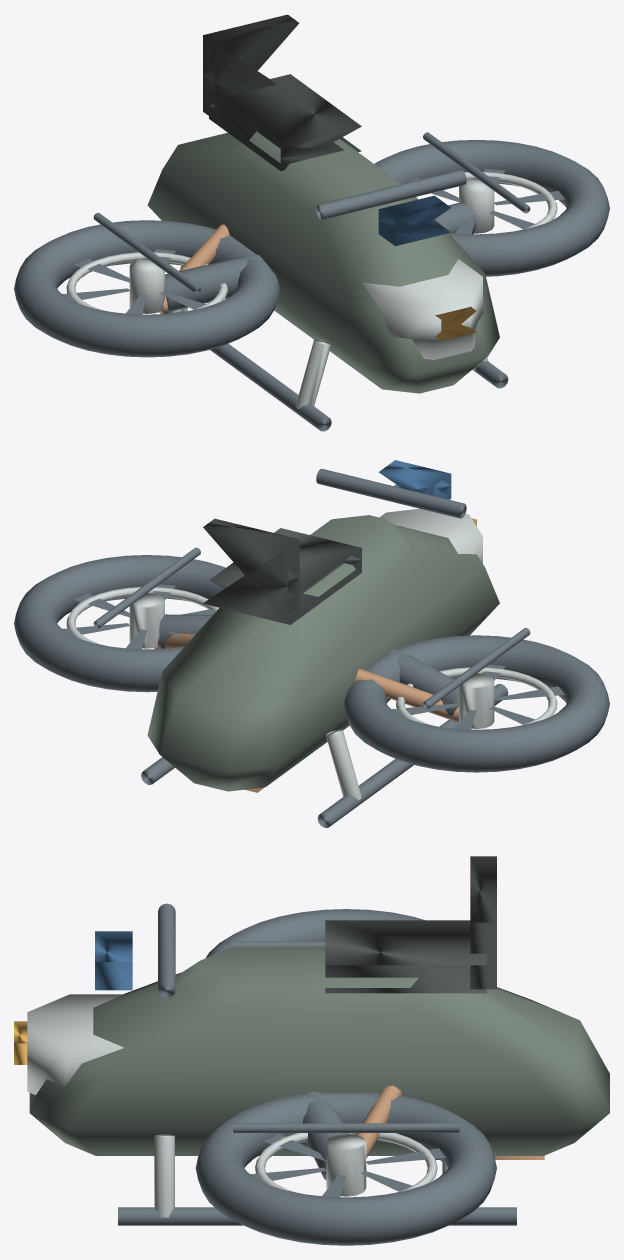
Rendered from rastro_av4.glb.
3 views of the same model, one above another, from view 1: azimuth 30°, elevation 25°; view 2: azimuth 150°, elevation 25°; view 3: azimuth 270°, elevation 25° (orthographic). The views are drawn at different scales.
Visible parts, largest first — view 1: fuselagem, anel_rotor_-1, anel_rotor_1, assento_piloto, carenagem_nariz, encosto_piloto, painel_navegacao, guidão_rastro, braço_duct_-1, patim_-1, eixo_rotor_-1, grelha_interna_-1 (+8 smaller); view 2: fuselagem, anel_rotor_-1, anel_rotor_1, encosto_piloto, assento_piloto, guidão_rastro, carenagem_nariz, patim_-1, painel_navegacao, braço_duct_-1, eixo_rotor_-1, eixo_rotor_1 (+8 smaller); view 3: fuselagem, anel_rotor_1, assento_piloto, carenagem_nariz, encosto_piloto, anel_rotor_-1, patim_1, painel_navegacao, protecao_turbina_1, eixo_rotor_1, grelha_interna_1, amortecedor_1 (+6 smaller).
Boxes of the visible parts, x1,y1,x2,y2 form: fuselagem: (147,131,499,393); anel_rotor_-1: (14,220,280,357); anel_rotor_1: (374,140,609,276); assento_piloto: (209,74,361,171); carenagem_nariz: (362,259,483,359); encosto_piloto: (203,14,299,119); painel_navegacao: (378,195,450,246); guidão_rastro: (316,170,466,219); braço_duct_-1: (164,254,263,311); patim_-1: (160,311,331,431); eixo_rotor_-1: (129,258,164,313); grelha_interna_-1: (66,252,227,309); fuselagem: (147,515,499,791); anel_rotor_-1: (343,635,609,772); anel_rotor_1: (14,555,225,692); encosto_piloto: (203,518,299,624); assento_piloto: (209,528,361,624); guidão_rastro: (316,469,466,518); carenagem_nariz: (379,508,482,563); patim_-1: (317,684,508,827); painel_navegacao: (379,460,451,499); braço_duct_-1: (390,648,458,722); eixo_rotor_-1: (459,673,494,728); eixo_rotor_1: (129,593,164,648); fuselagem: (29,947,609,1155); anel_rotor_1: (195,1093,496,1245); assento_piloto: (325,920,486,993); carenagem_nariz: (27,994,124,1095); encosto_piloto: (470,856,496,989); anel_rotor_-1: (206,909,424,957); patim_1: (118,1207,516,1225); painel_navegacao: (95,931,132,990); protecao_turbina_1: (233,1123,459,1132); eixo_rotor_1: (326,1133,366,1196); grelha_interna_1: (255,1133,437,1192); amortecedor_1: (154,1134,174,1217).
Bounding box in the file's own units: 3.3 × 1.48 × 2.69.
